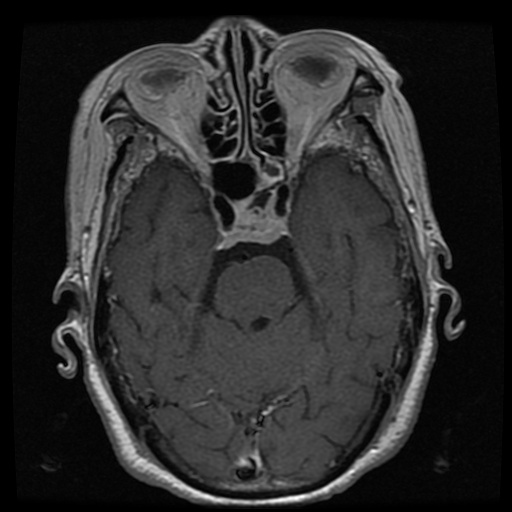pituitary: (222, 198, 288, 247)
